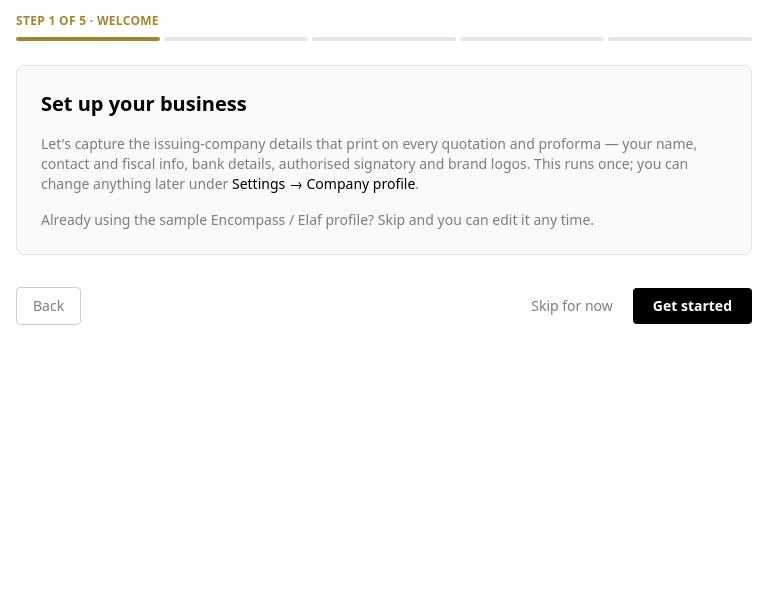
OnboardingView stepper (#37) › Back returns to the previous step
The image size is (769, 613).
What coordinates should you click on to do the following:
click the button "Get started"
I would click on:
 (692, 306)
Its box is [633, 288, 752, 324].
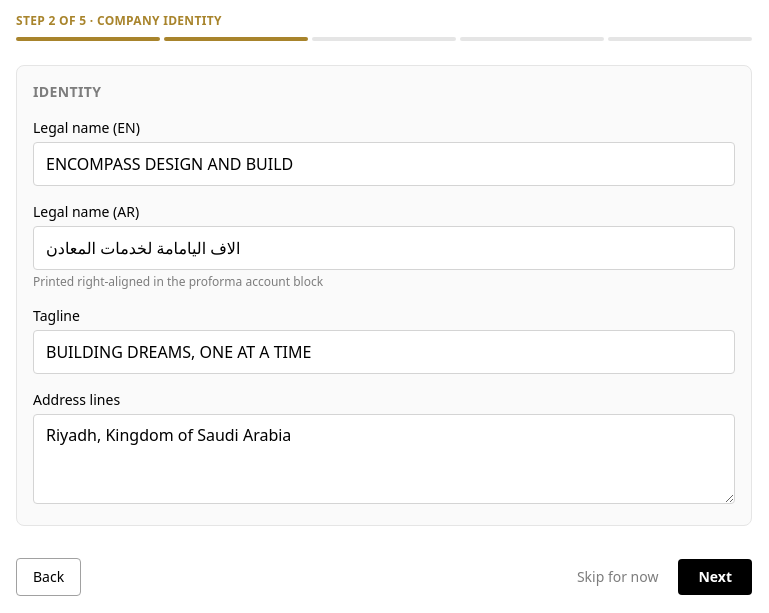
What coordinates should you click on to do the following:
click the button "Back"
I would click on:
 (49, 577)
Its box is [16, 558, 81, 596].
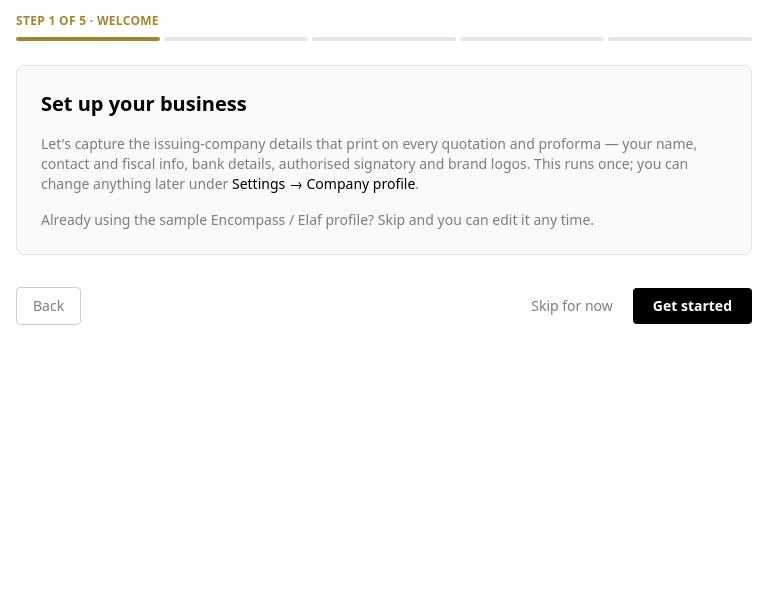
Check: the heading "Set up your business" is shown, box [41, 90, 247, 117]
